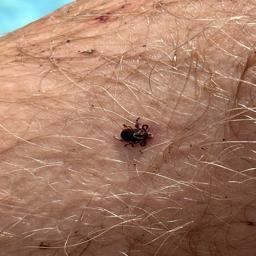Dermacentor variabilis: (114, 121, 153, 148)
